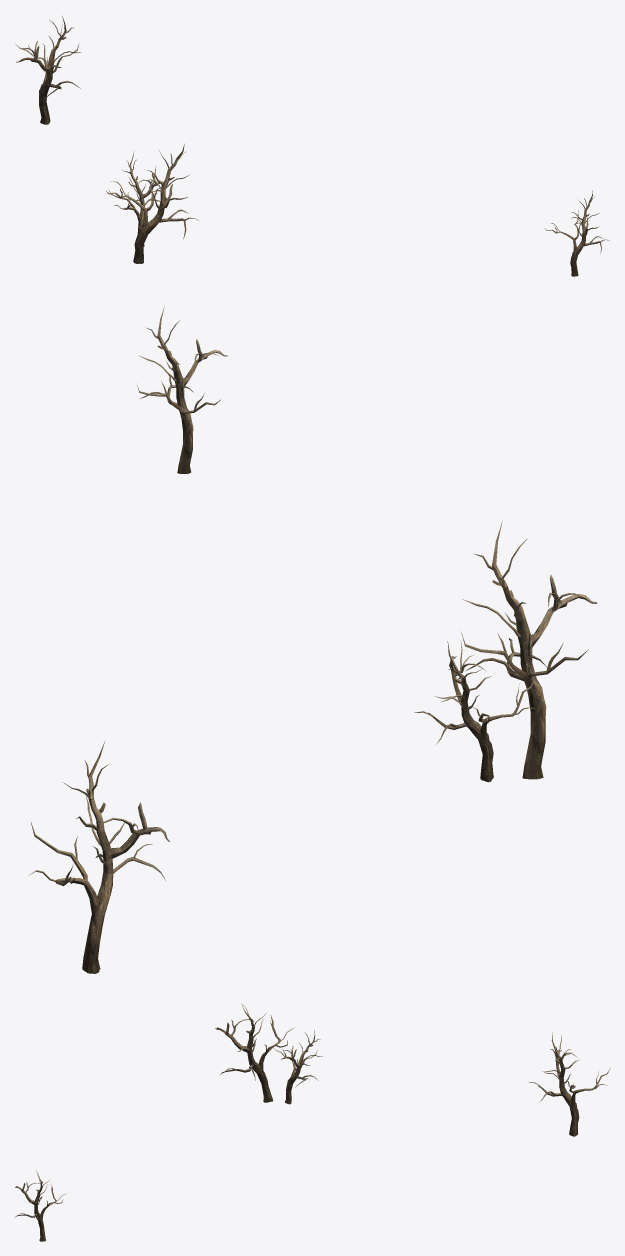
Rendered from kushu02.fbx.
3 renders of one model, top to bottom at view 1: azimuth 30°, elevation 25°; view 2: azimuth 150°, elevation 25°; view 3: azimuth 270°, elevation 25°, orthographic. The views are drawn at different scales.
Visible parts, largest first — view 1: kushu02; view 2: kushu02; view 3: kushu02.
Boxes of the visible parts, bbox=[...] form: kushu02: bbox=[15, 16, 609, 276]; kushu02: bbox=[29, 306, 597, 973]; kushu02: bbox=[14, 1004, 610, 1241].
Size of the model in its own units: 2763 by 874 by 4181.
Materials: 1 (1 with a texture image).
